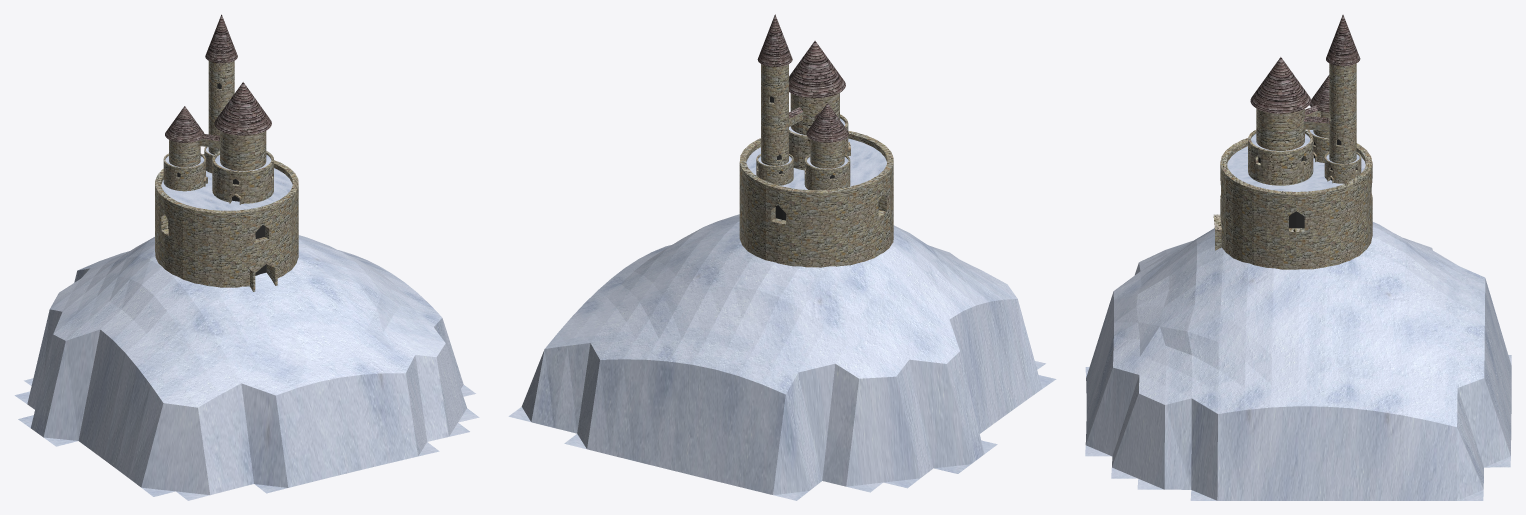
The model's file is mage_tower.dae.
3 views of the same model, side by side, from view 1: azimuth 30°, elevation 25°; view 2: azimuth 150°, elevation 25°; view 3: azimuth 270°, elevation 25° (orthographic). The views are drawn at different scales.
Visible parts, largest first — view 1: Plane, Cylinder, Cylinder.002, Cylinder.001, Cylinder.003; view 2: Plane, Cylinder, Cylinder.003, Cylinder.002, Cylinder.001; view 3: Plane, Cylinder, Cylinder.002, Cylinder.003, Cylinder.001.
Part boxes in pixels (x1,y1,x2,y2): Plane: (14,235,479,500); Cylinder: (155,154,298,291); Cylinder.002: (212,82,273,204); Cylinder.001: (163,106,207,191); Cylinder.003: (204,14,237,173); Plane: (508,214,1056,500); Cylinder: (739,131,893,267); Cylinder.003: (756,14,793,185); Cylinder.002: (789,40,850,170); Cylinder.001: (804,103,850,190); Plane: (1085,222,1511,500); Cylinder: (1213,138,1372,269); Cylinder.002: (1248,57,1313,185); Cylinder.003: (1324,14,1361,183); Cylinder.001: (1307,75,1329,162).
Size of the model in its own units: 161 by 152 by 154.
Materials: 4 (3 with a texture image).
